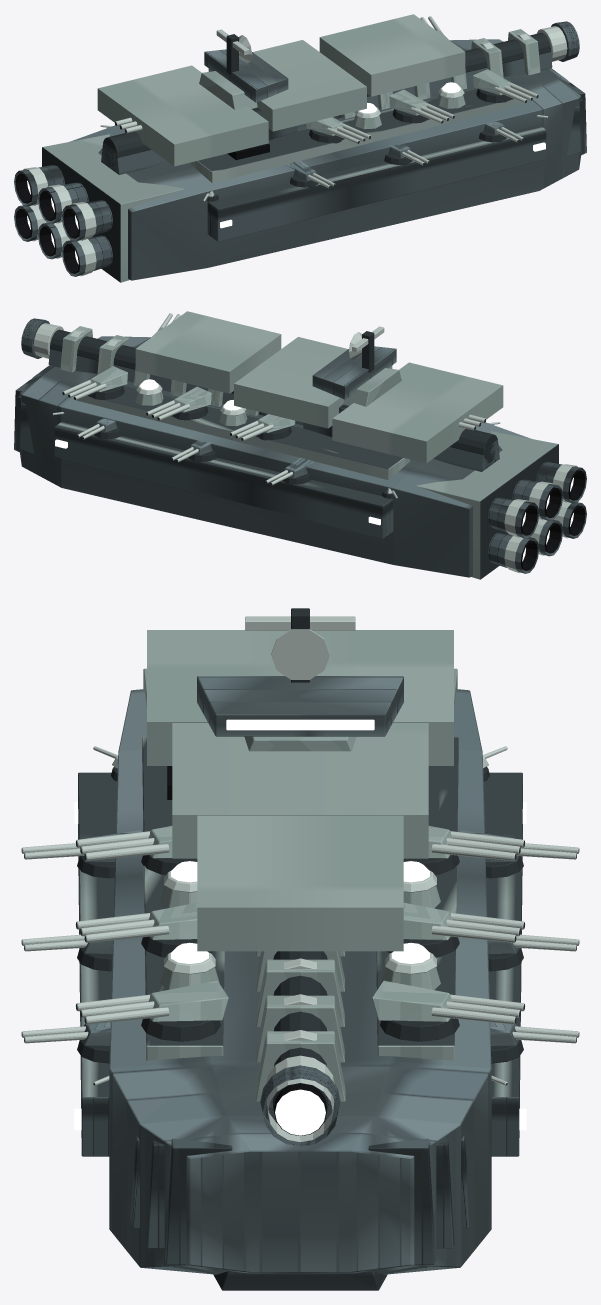
File: battleship.glb
3 renders of one model, top to bottom at view 1: azimuth 30°, elevation 25°; view 2: azimuth 150°, elevation 25°; view 3: azimuth 270°, elevation 25°, orthographic. The views are drawn at different scales.
Parts seen in each view (by area): view 1: faction-buthari_battleship; view 2: faction-buthari_battleship; view 3: faction-buthari_battleship.
Boxes of the visible parts, bbox=[...] form: faction-buthari_battleship: bbox=[14, 14, 586, 282]; faction-buthari_battleship: bbox=[14, 311, 586, 579]; faction-buthari_battleship: bbox=[21, 608, 579, 1290].
Bounding box in the file's own units: 60 × 20.5 × 27.7.
1 material, 1 textured.
